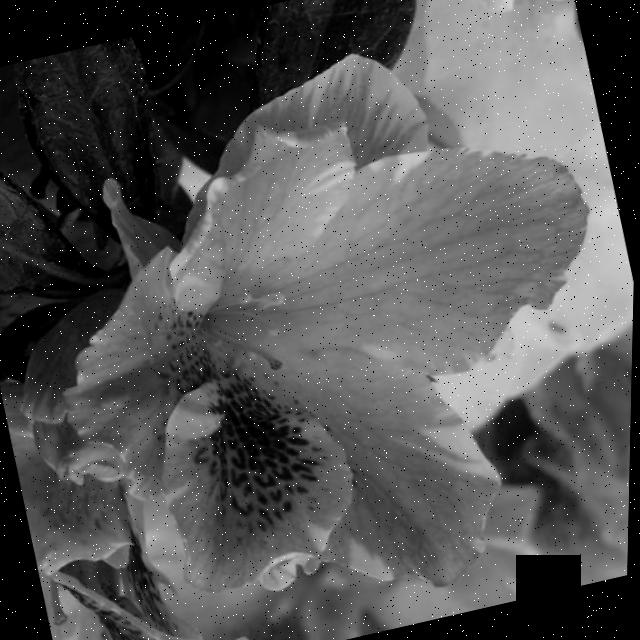azalea: (0, 49, 639, 639)
